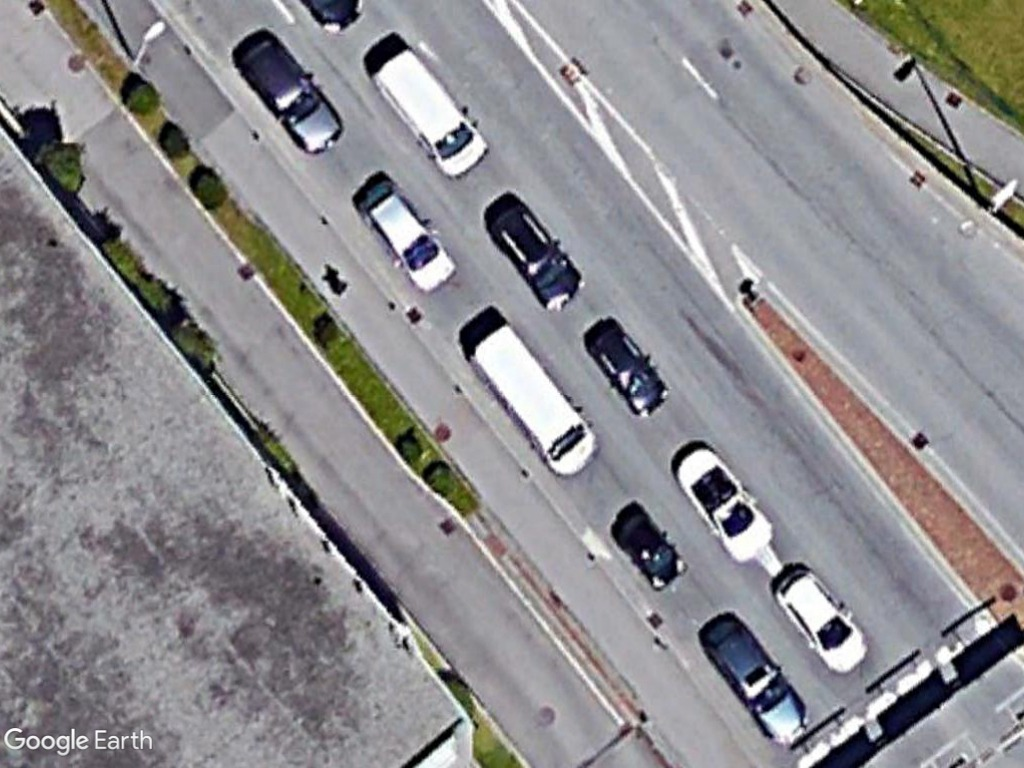car: (700, 615, 809, 747), (237, 35, 348, 158), (670, 442, 778, 568), (352, 176, 459, 295), (772, 566, 875, 673), (485, 200, 586, 309)
van: (470, 318, 600, 481), (367, 44, 496, 178)
